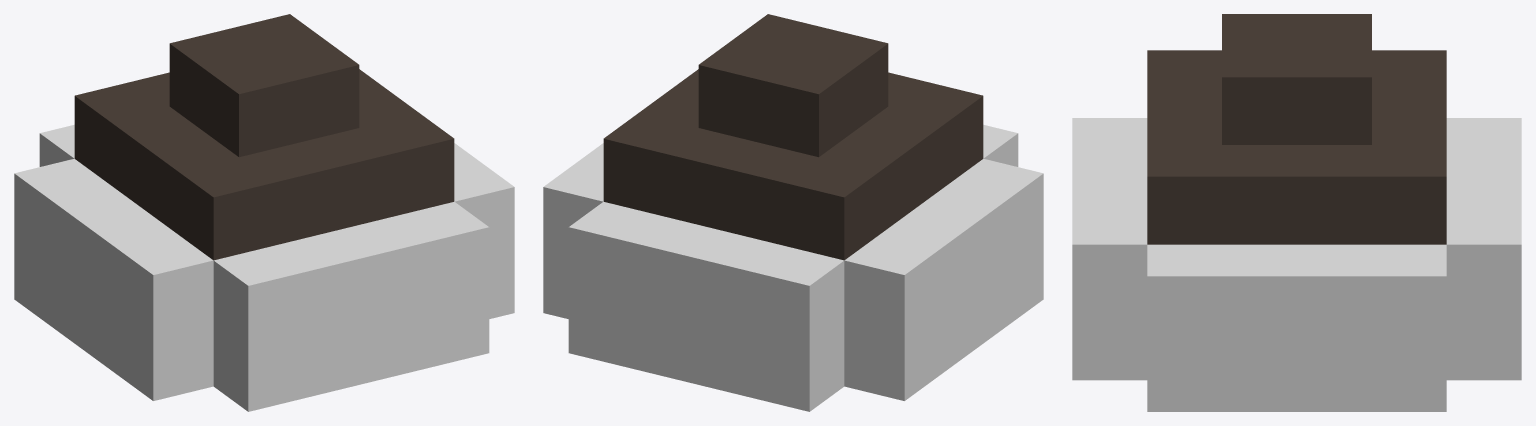
The model's file is char-226-helm_lgt_1b_ja_color.obj.
3 renders of one model, left to right at view 1: azimuth 30°, elevation 25°; view 2: azimuth 150°, elevation 25°; view 3: azimuth 270°, elevation 25°, orthographic. The views are drawn at different scales.
Visible parts, largest first — view 1: helm_lgt_1b_ja_color; view 2: helm_lgt_1b_ja_color; view 3: helm_lgt_1b_ja_color.
Boxes of the visible parts, x1,y1,x2,y2 form: helm_lgt_1b_ja_color: (14, 14, 514, 411); helm_lgt_1b_ja_color: (543, 14, 1043, 411); helm_lgt_1b_ja_color: (1072, 14, 1521, 411).
Bounding box in the file's own units: 0.6 × 0.4 × 0.6.
1 material, 1 textured.
